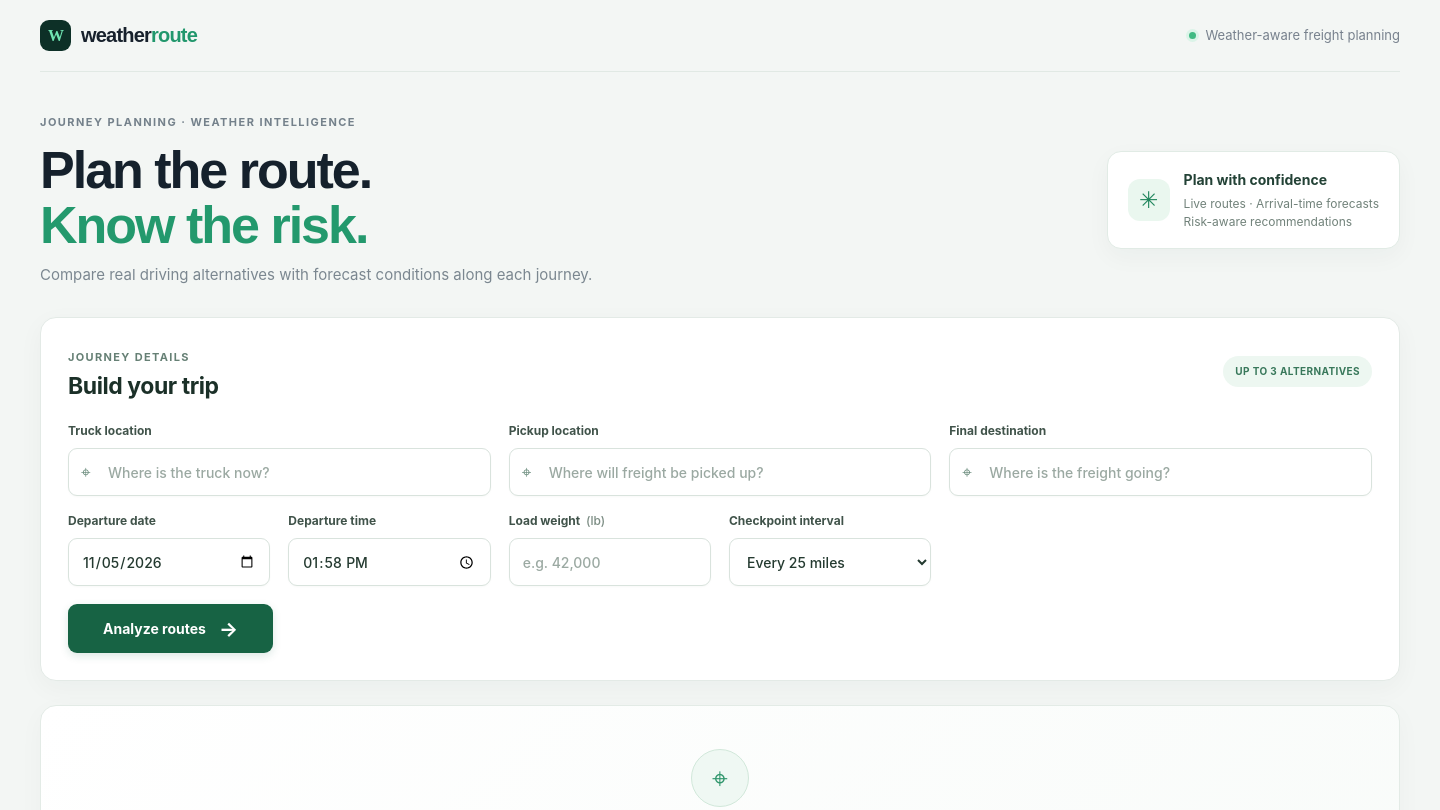
it: journey dashboard integration › shows loading feedback and clears it after an API response
The width and height of the screenshot is (1440, 810).
Later steps or results of the test are not shown.
Type "New York, NY" into the field labelled "Truck location". click: (279, 472)
box: top-left (68, 448), bottom-right (491, 496)
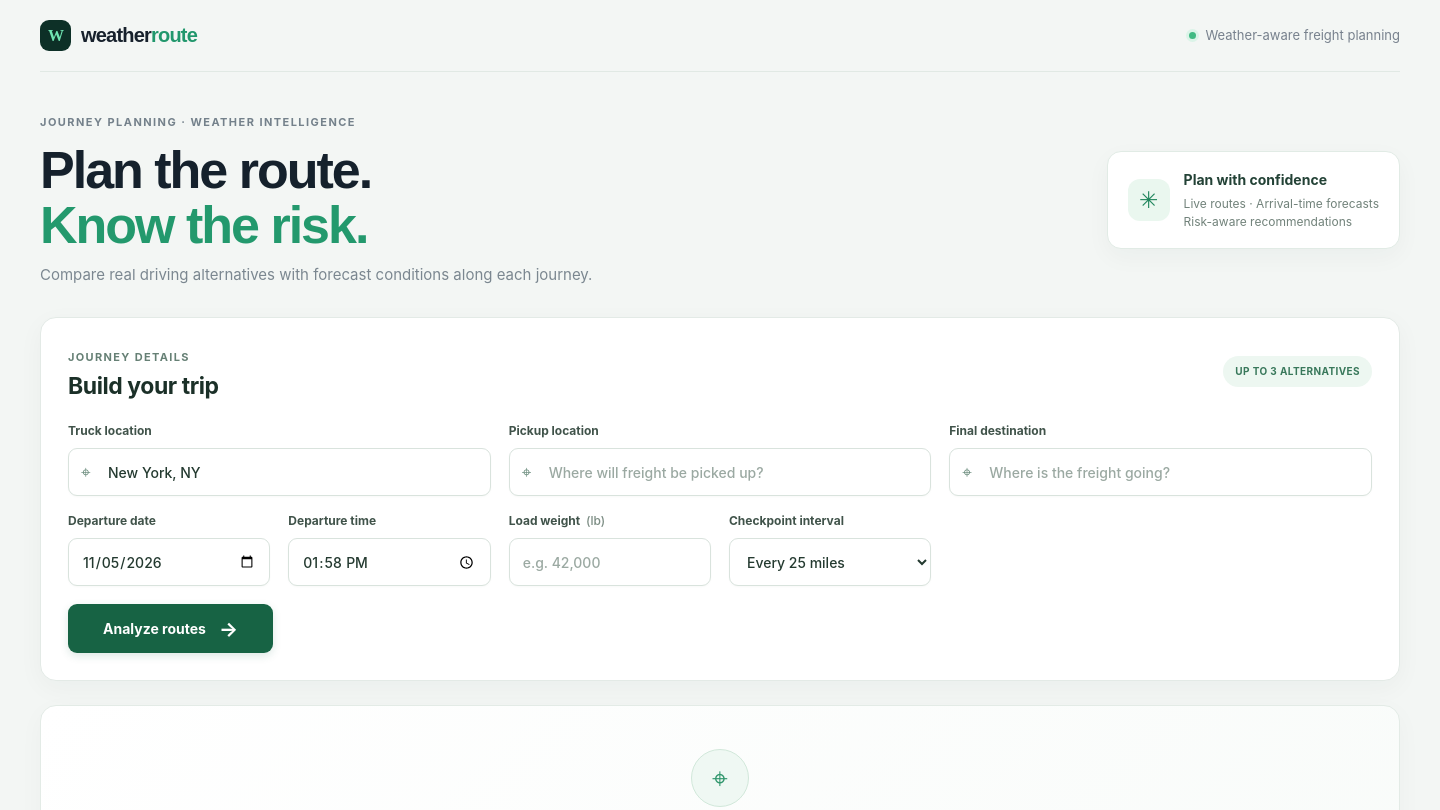
Type "Hartford, CT" into the field labelled "Pickup location". click: (720, 472)
box: top-left (509, 448), bottom-right (931, 496)
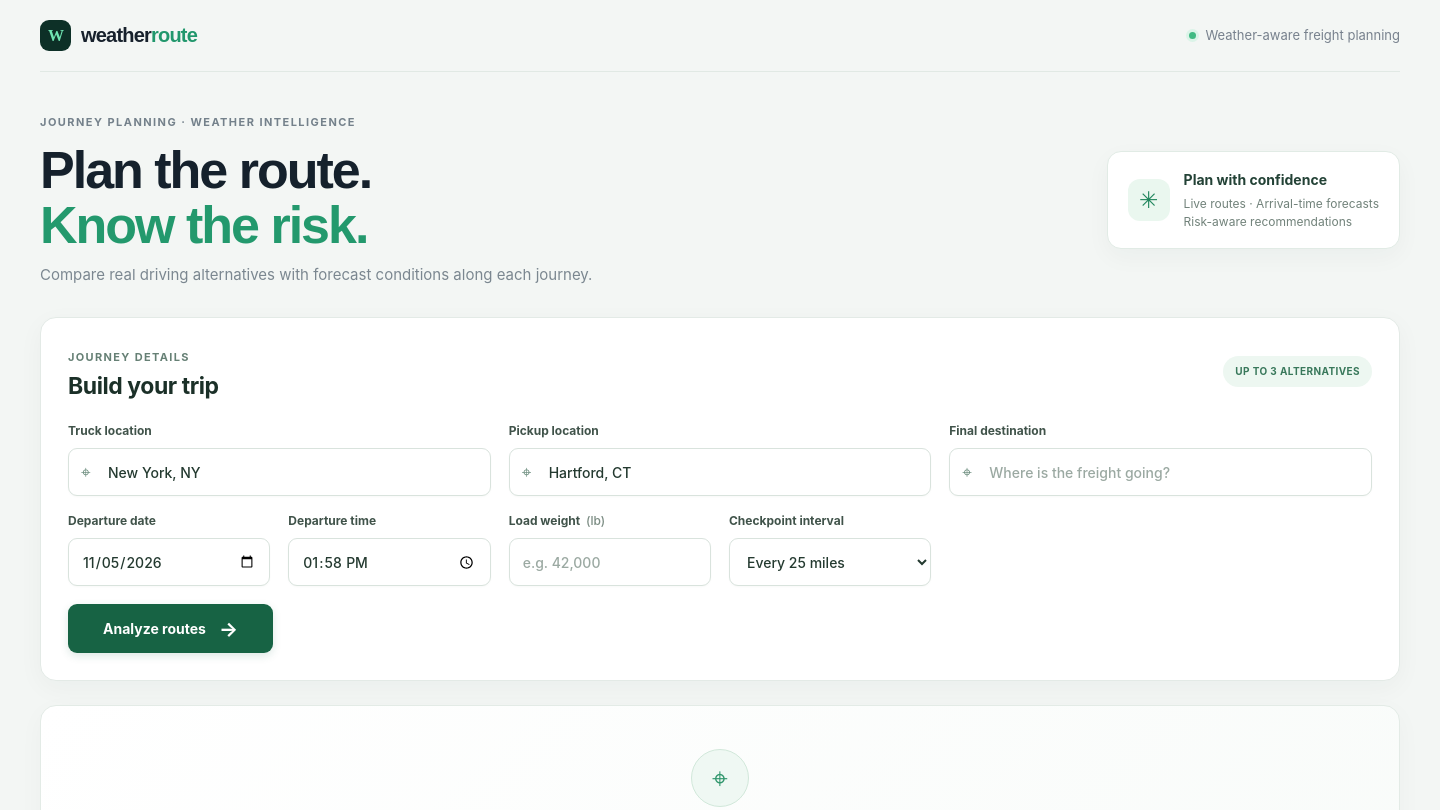
Type "Boston, MA" into the field labelled "Final destination". click: (1161, 472)
box: top-left (949, 448), bottom-right (1372, 496)
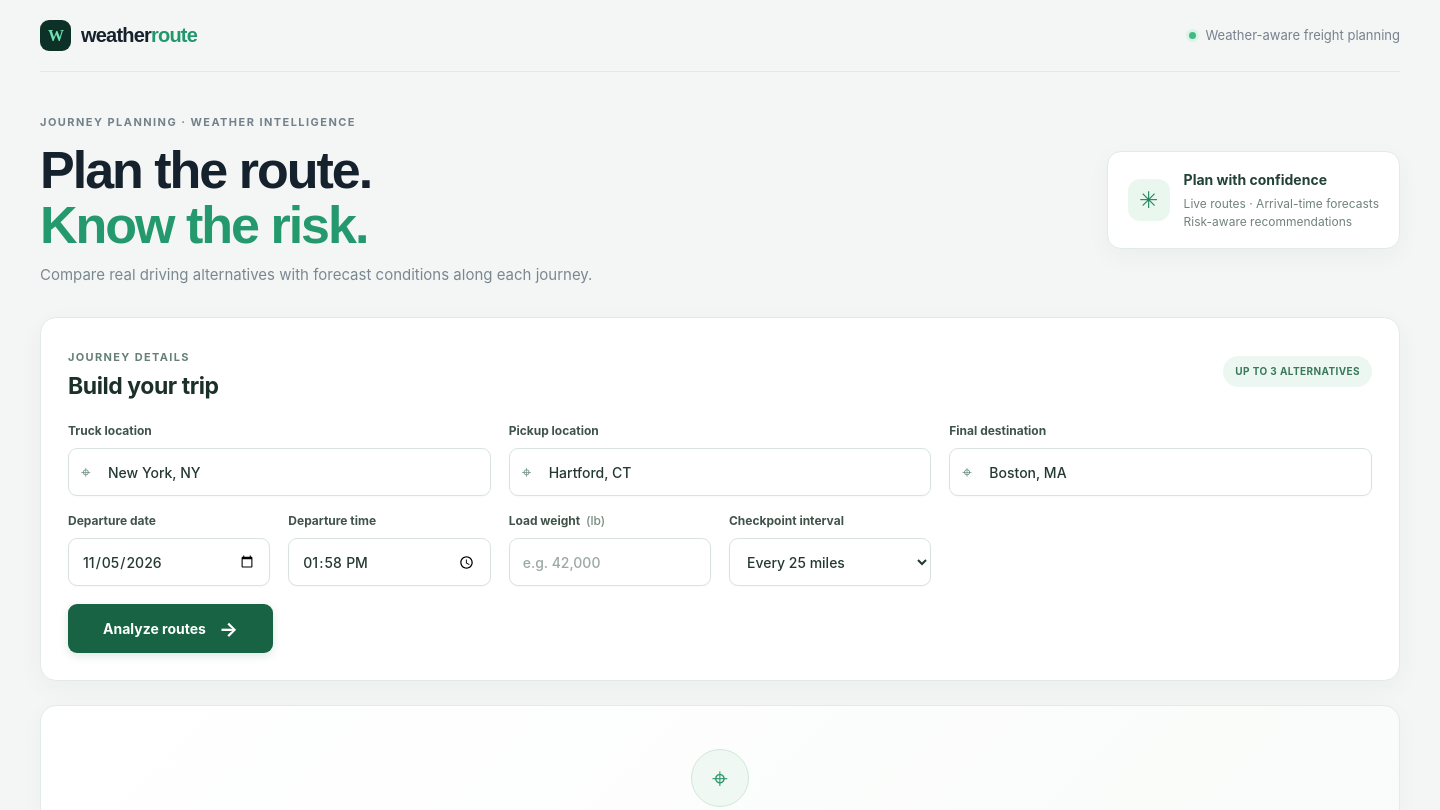
Type "42000" into the number field labelled "Load weight (lb)". click: (610, 562)
box: top-left (509, 538), bottom-right (711, 586)
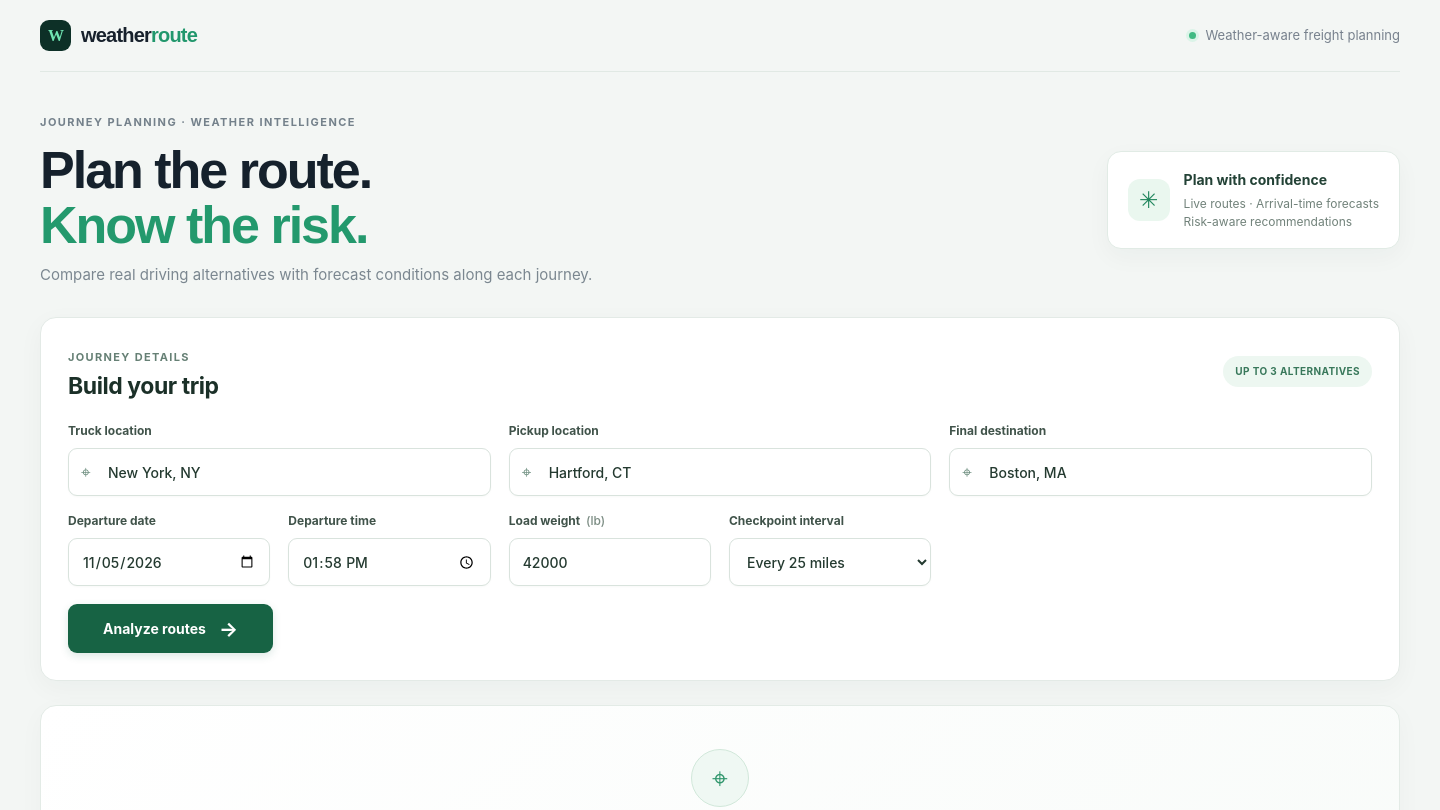
Submit the form, box top-left (68, 422), bottom-right (1372, 654)
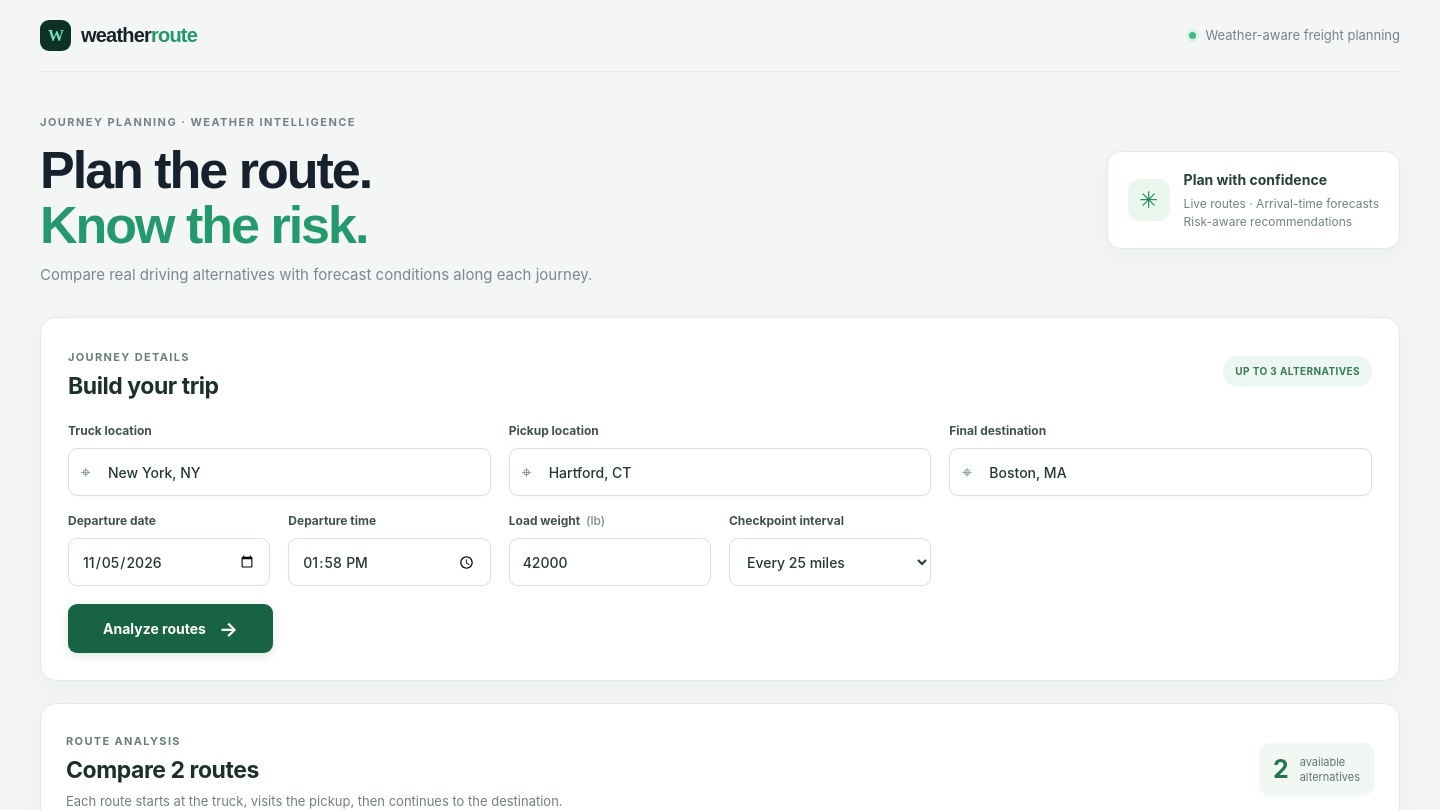
expect the heading "Compare 2 routes" is shown: met, box top-left (66, 756), bottom-right (259, 784)
